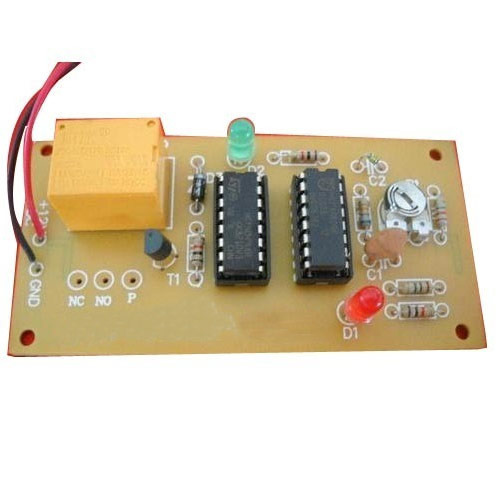resistor: (189, 233, 207, 270), (398, 278, 433, 295), (403, 304, 436, 319), (434, 197, 447, 229), (292, 149, 320, 162), (359, 199, 372, 227)
